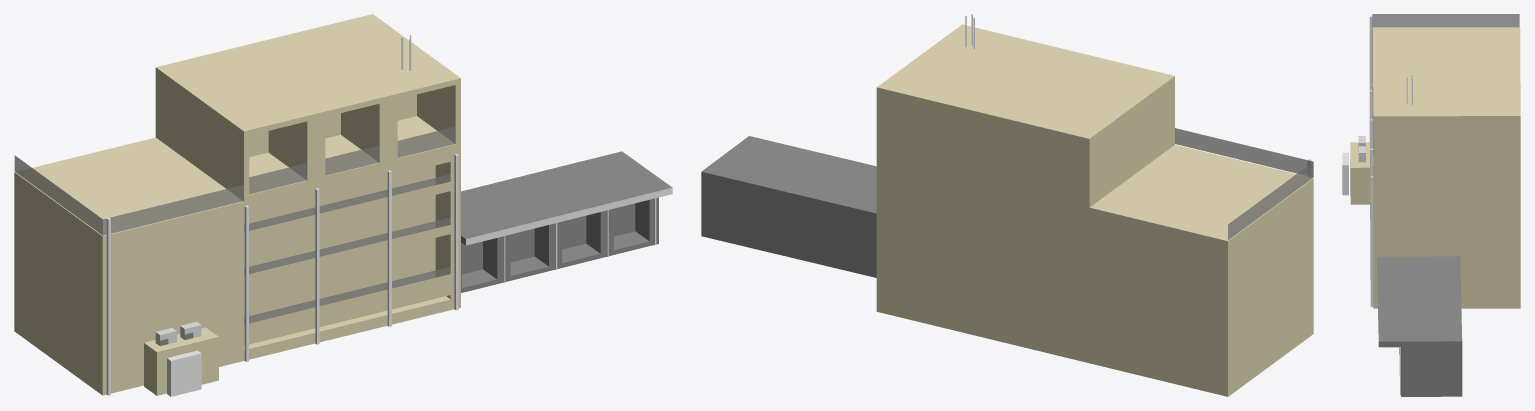
The model's file is Building02fbx.fbx.
The picture shows the model from 3 angles, left to right: view 1: azimuth 30°, elevation 25°; view 2: azimuth 150°, elevation 25°; view 3: azimuth 270°, elevation 25°; orthographic projection. The views are drawn at different scales.
Visible parts, largest first — view 1: Building02; view 2: Building02; view 3: Building02.
Boxes of the visible parts, <box> form: Building02: <box>14,14,672,396</box>; Building02: <box>701,14,1313,396</box>; Building02: <box>1342,14,1520,396</box>.
Size of the model in its own units: 6138 by 2683 by 1970.
